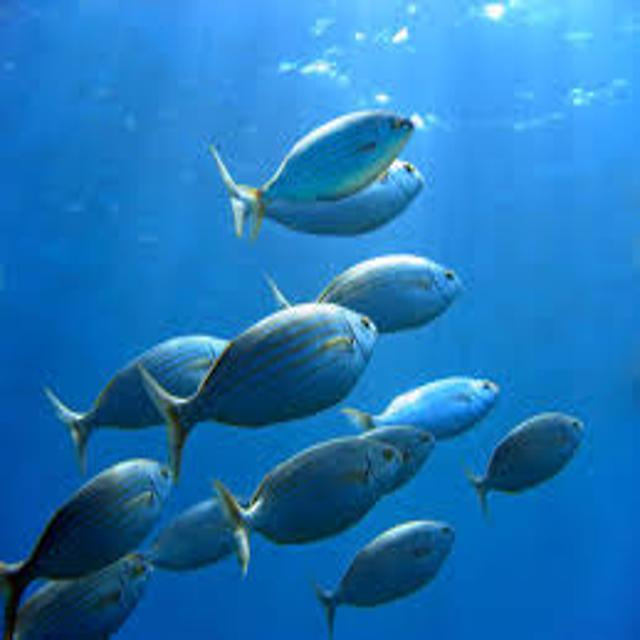fish: (140, 303, 379, 483), (1, 456, 174, 637), (207, 111, 418, 242), (50, 334, 242, 477), (217, 435, 398, 583), (313, 519, 457, 637), (258, 251, 466, 331), (244, 159, 423, 241), (468, 412, 585, 527), (5, 555, 160, 640), (341, 375, 505, 455), (127, 494, 251, 590), (343, 425, 437, 497)
